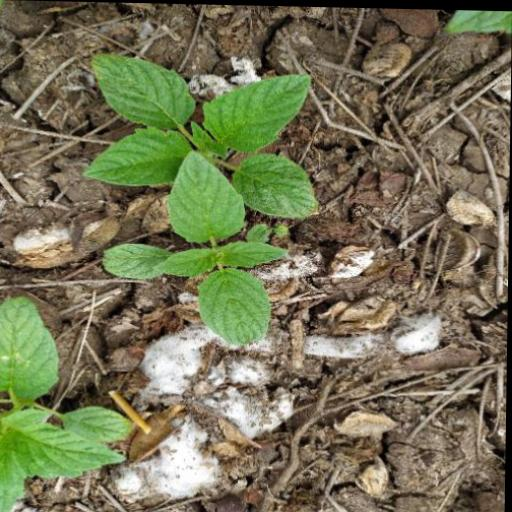crop: (78, 48, 331, 356), (0, 269, 134, 512)
